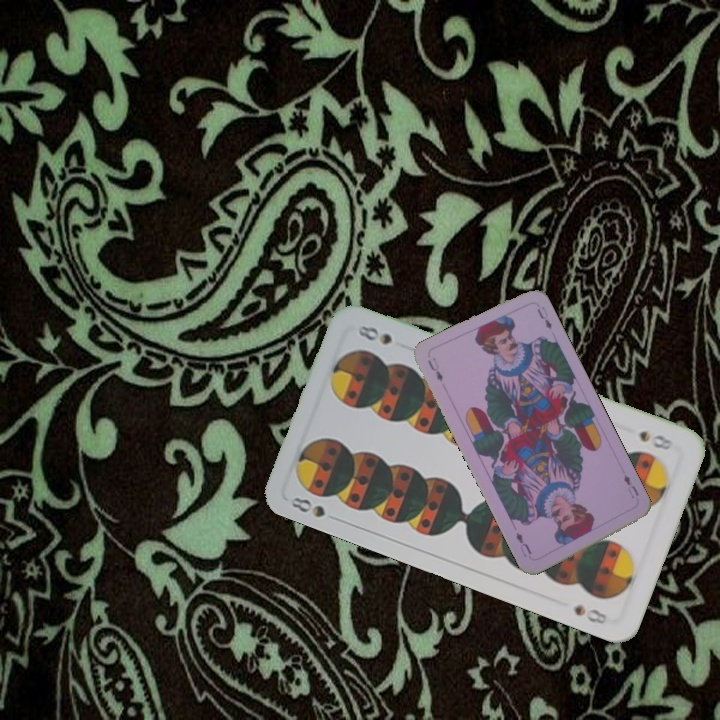EU: (423, 353, 445, 384), (619, 471, 641, 501)
S8: (287, 493, 328, 521), (635, 426, 676, 453)
